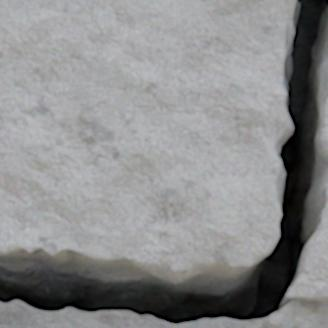broken_brick: (0, 0, 294, 281), (286, 176, 327, 301), (321, 100, 327, 155)
crack: (0, 0, 327, 327)
